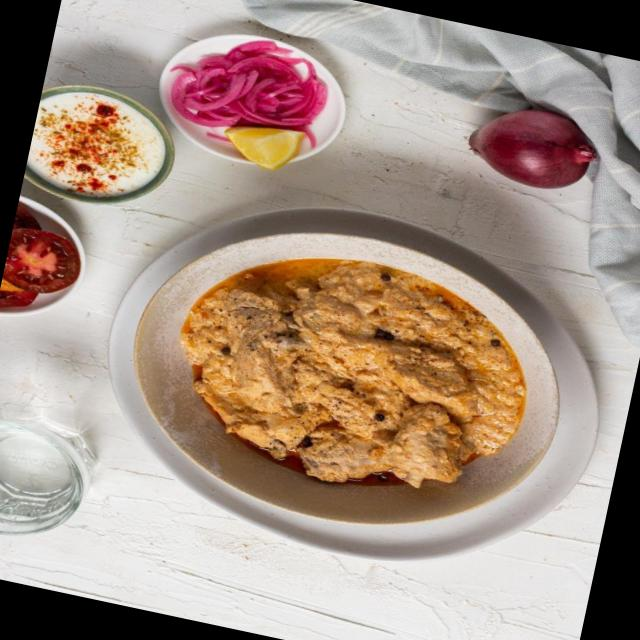chicken: (132, 225, 539, 523)
